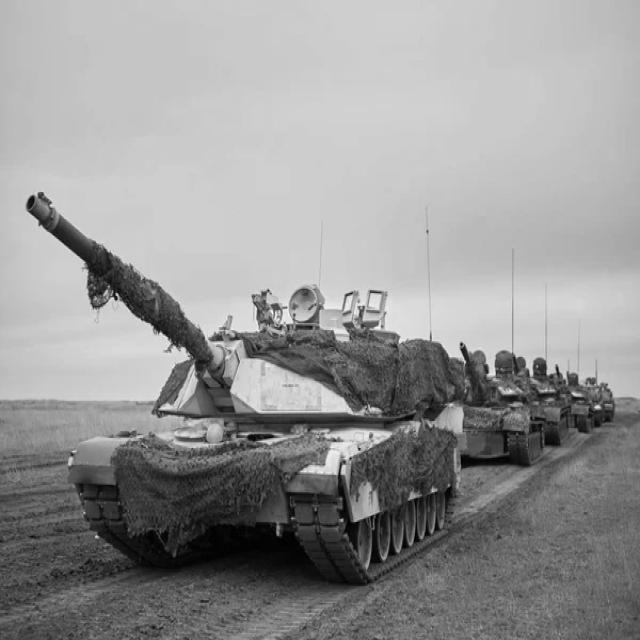Tank: (25, 180, 469, 588), (461, 344, 550, 471)
